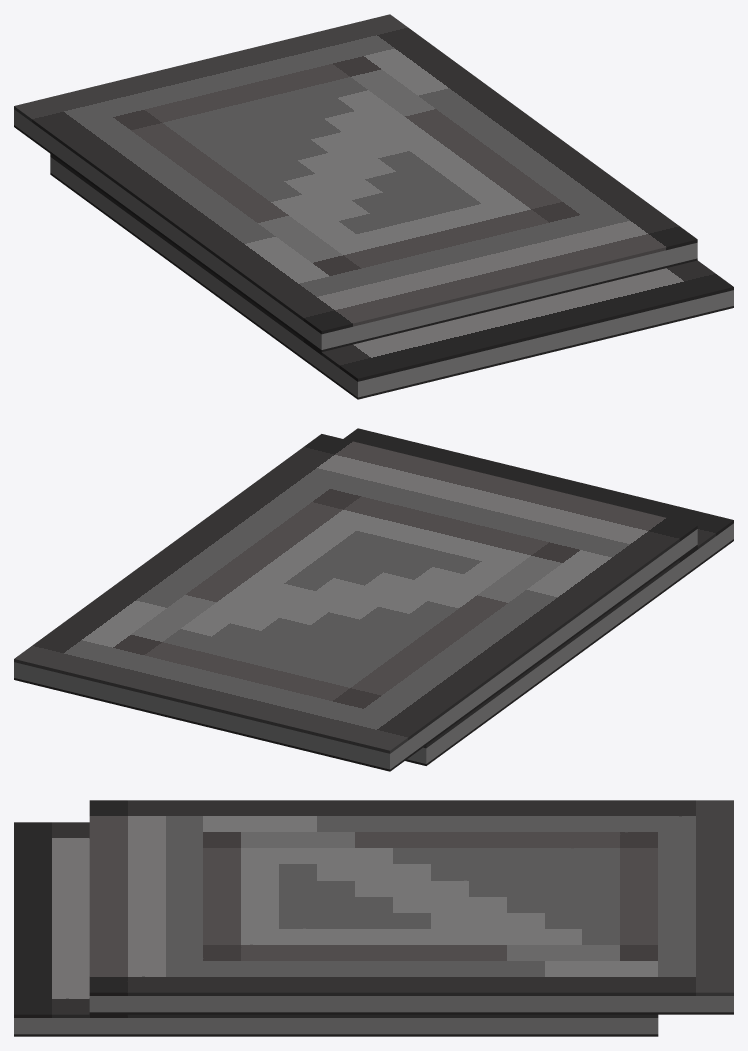
Rendered from CMU3DCMSheetMetal20.glb.
3 renders of one model, top to bottom at view 1: azimuth 30°, elevation 25°; view 2: azimuth 150°, elevation 25°; view 3: azimuth 270°, elevation 25°, orthographic. The views are drawn at different scales.
Visible parts, largest first — view 1: sheet 2 original upper surface, sheet 1 original upper surface, sheet 1 solid material, sheet 2 solid material, sheet 1 dark lower edge, sheet 2 dark lower edge; view 2: sheet 2 original upper surface, sheet 2 solid material, sheet 1 original upper surface, sheet 1 solid material, sheet 2 dark lower edge, sheet 1 dark lower edge; view 3: sheet 2 original upper surface, sheet 1 original upper surface, sheet 1 solid material, sheet 2 solid material, sheet 1 dark lower edge, sheet 2 dark lower edge.
Boxes of the visible parts, box(x1,y1,x2,y2) form: sheet 2 original upper surface: box(14, 14, 697, 334); sheet 1 original upper surface: box(50, 154, 733, 381); sheet 1 solid material: box(50, 157, 733, 397); sheet 2 solid material: box(14, 109, 697, 349); sheet 1 dark lower edge: box(50, 173, 733, 399); sheet 2 dark lower edge: box(14, 125, 697, 351); sheet 2 original upper surface: box(14, 434, 697, 753); sheet 2 solid material: box(14, 529, 697, 769); sheet 1 original upper surface: box(343, 428, 733, 748); sheet 1 solid material: box(407, 523, 733, 763); sheet 2 dark lower edge: box(14, 545, 697, 771); sheet 1 dark lower edge: box(405, 539, 733, 765); sheet 2 original upper surface: box(89, 800, 733, 995); sheet 1 original upper surface: box(14, 822, 658, 1017); sheet 1 solid material: box(14, 1018, 658, 1034); sheet 2 solid material: box(89, 996, 733, 1012); sheet 1 dark lower edge: box(14, 1034, 658, 1036); sheet 2 dark lower edge: box(89, 1012, 733, 1014).
Size of what is drawn, in the model's own units: 0.375 by 0.04 by 0.5938.
4 materials, 2 textured.
